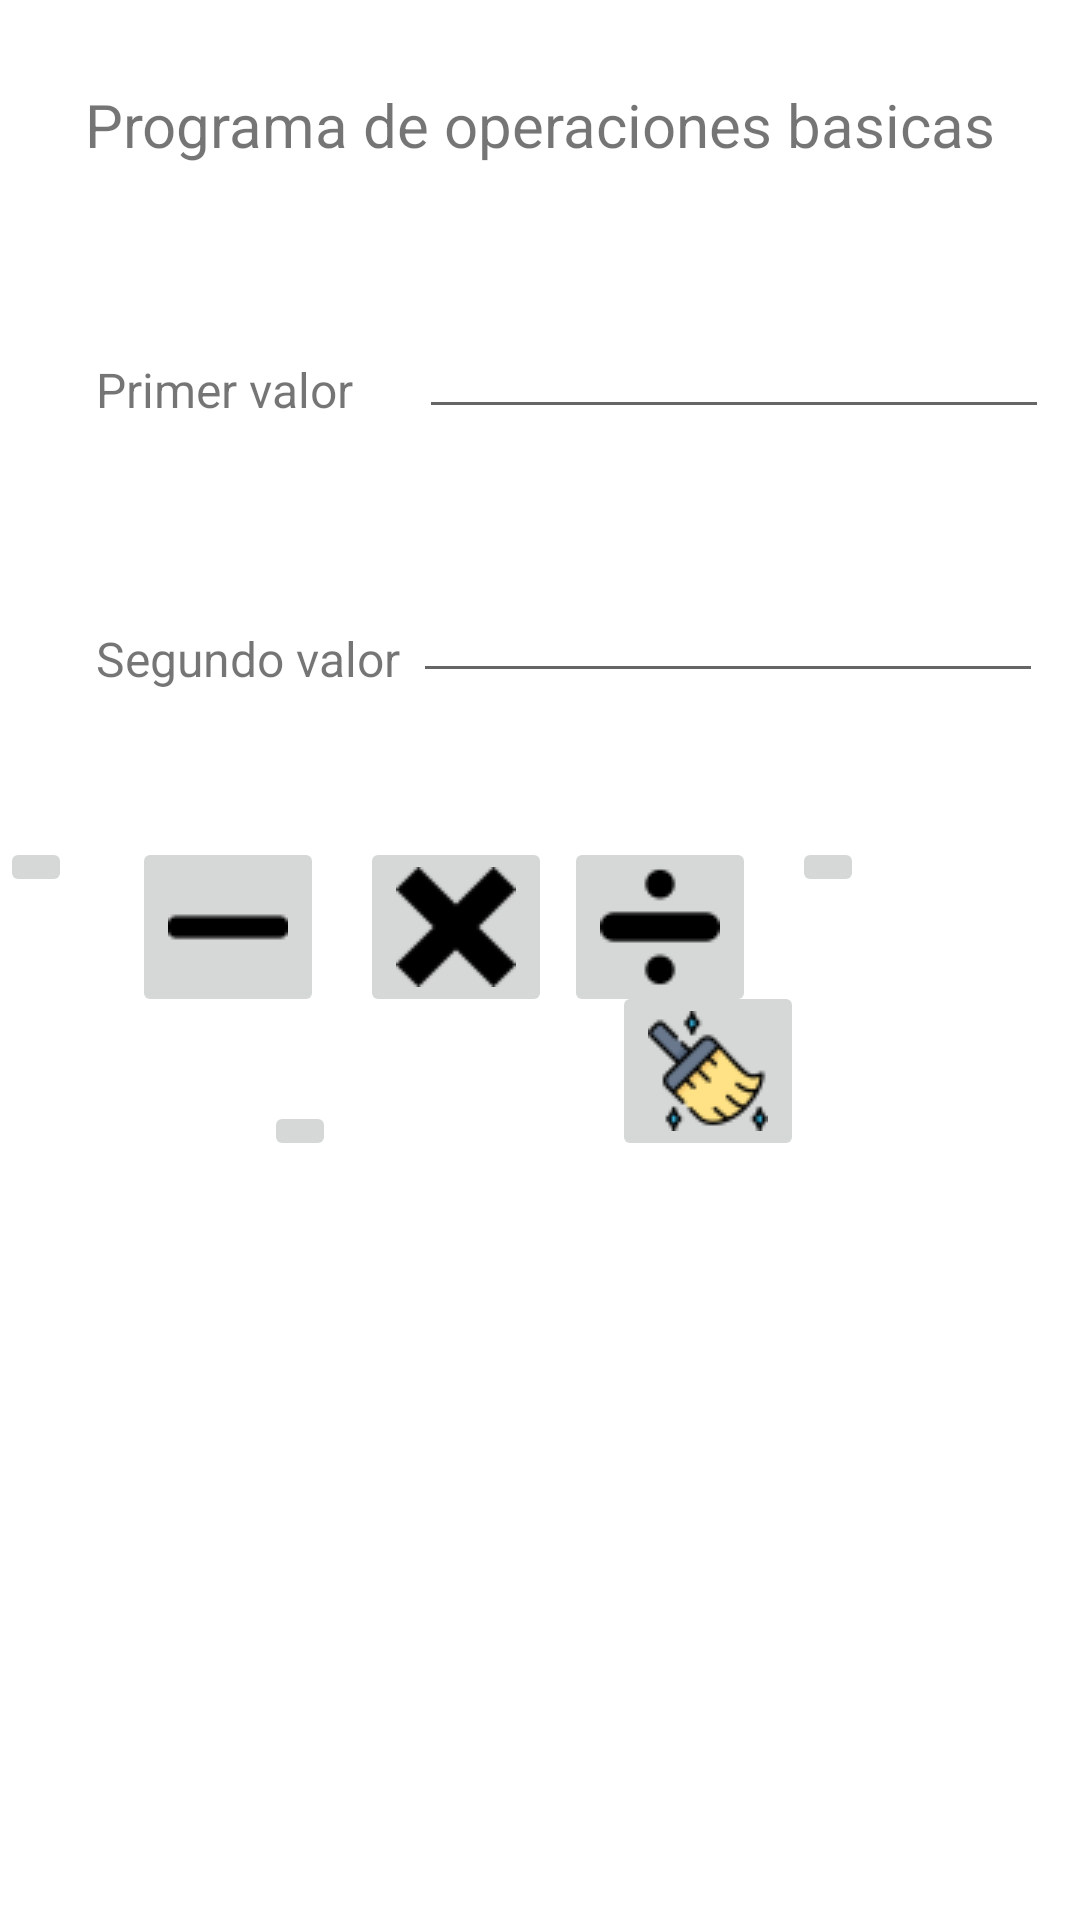

Screen size 1080*1920. Icon name, then its box in pixels as (x1, y1, x2, y2):
botonborrar: (612, 981, 792, 1143)
botondivide: (576, 855, 756, 1017)
botonmultiplica: (372, 855, 540, 999)
botonresta: (144, 855, 312, 999)
